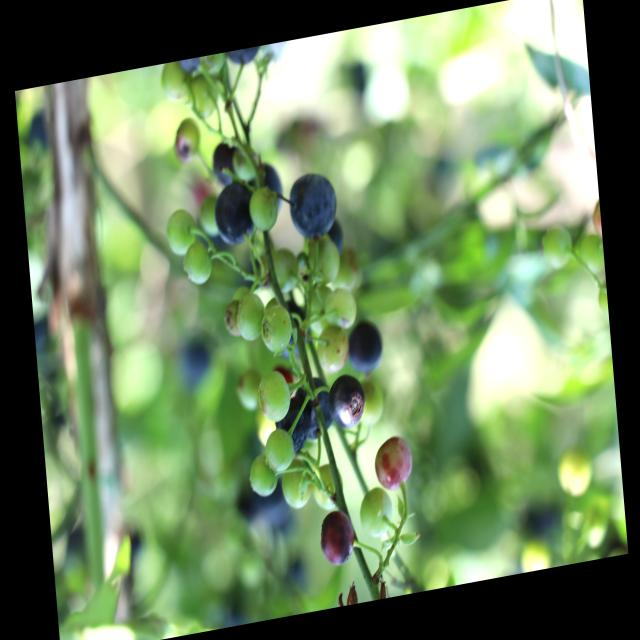blueberry: (287, 167, 341, 242), (212, 182, 266, 250), (316, 505, 357, 571), (326, 375, 370, 433), (345, 315, 386, 377), (298, 378, 337, 441), (272, 397, 311, 456)
blueberry-halfripe: (372, 430, 416, 493)
blueberry-unripe: (354, 482, 396, 542), (255, 366, 292, 428), (316, 325, 351, 375), (280, 459, 313, 512), (260, 303, 293, 355), (234, 293, 266, 344), (164, 208, 197, 257), (325, 286, 360, 332), (247, 454, 280, 501), (263, 426, 295, 474), (311, 462, 344, 508), (248, 186, 278, 234), (183, 239, 213, 287), (189, 77, 219, 124), (158, 61, 189, 104), (270, 248, 299, 293), (173, 120, 200, 160)
